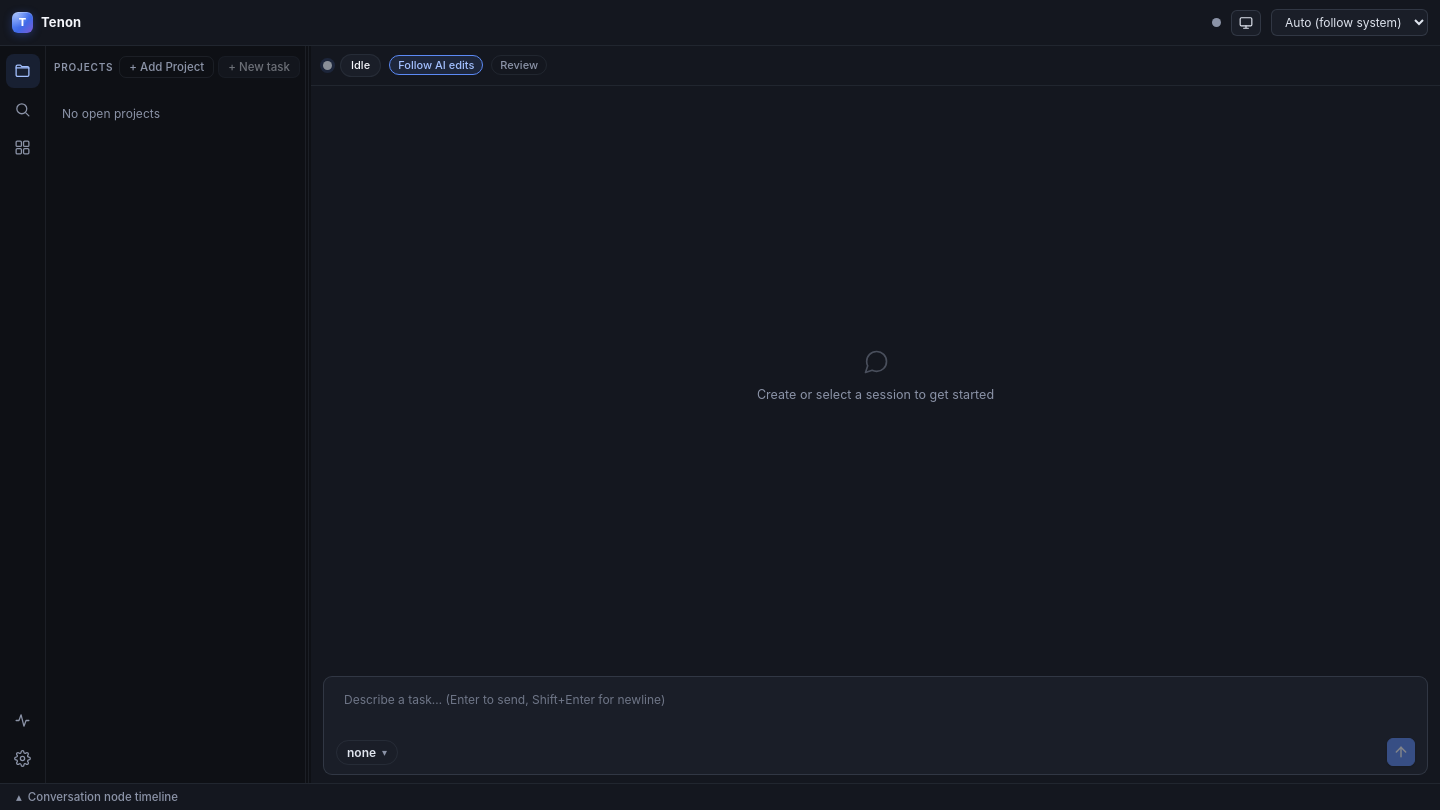
Scenario: 全局活动 App 接线（v2.12） › 命令面板含「全局活动」命令且可执行打开
Expected: the button with test id "rail-activity" is shown, [6, 703, 40, 737]
Press p
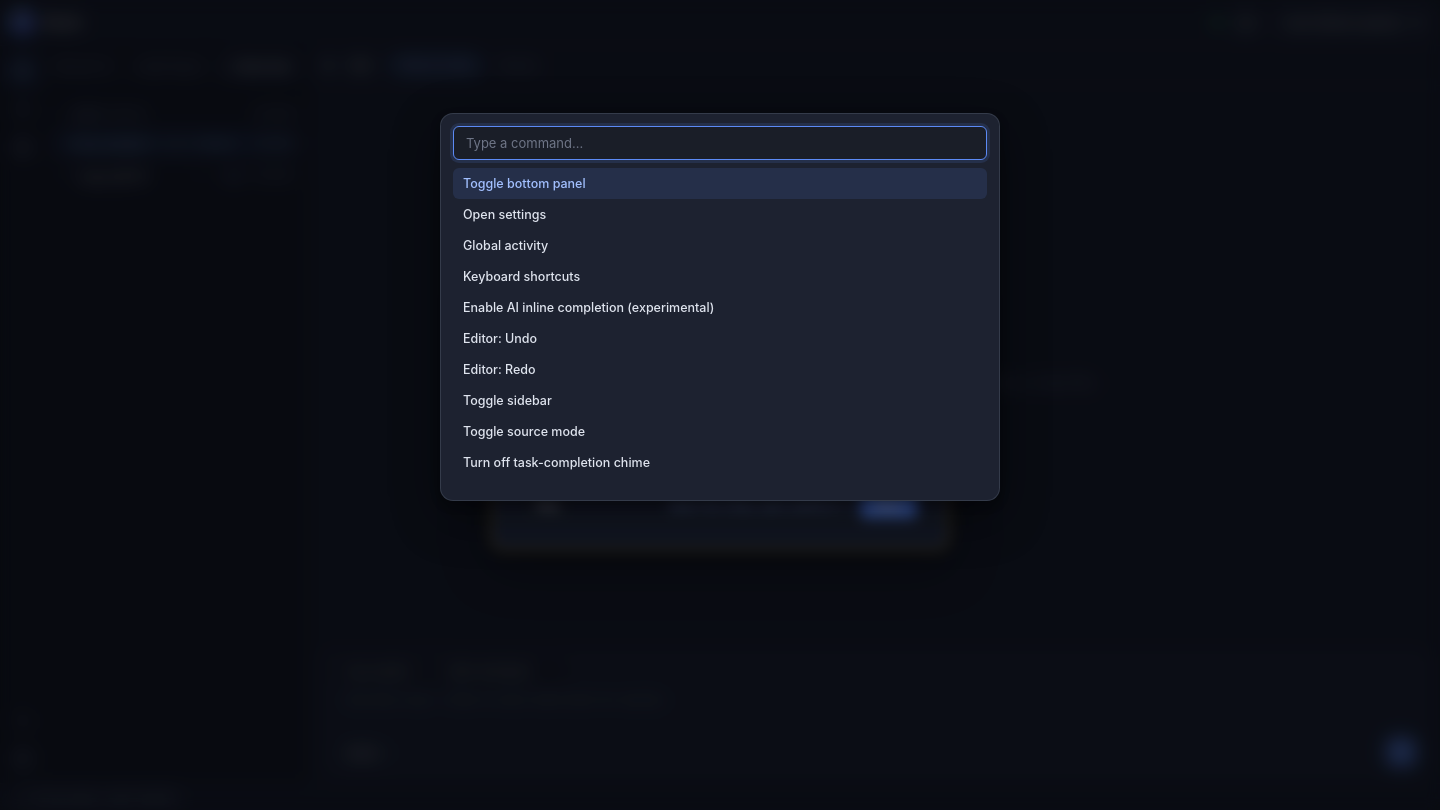
Result: the element with test id "command-palette" is shown
Type "Global activity" into the field with placeholder "Type a command…" at (720, 143), box [453, 126, 987, 160]
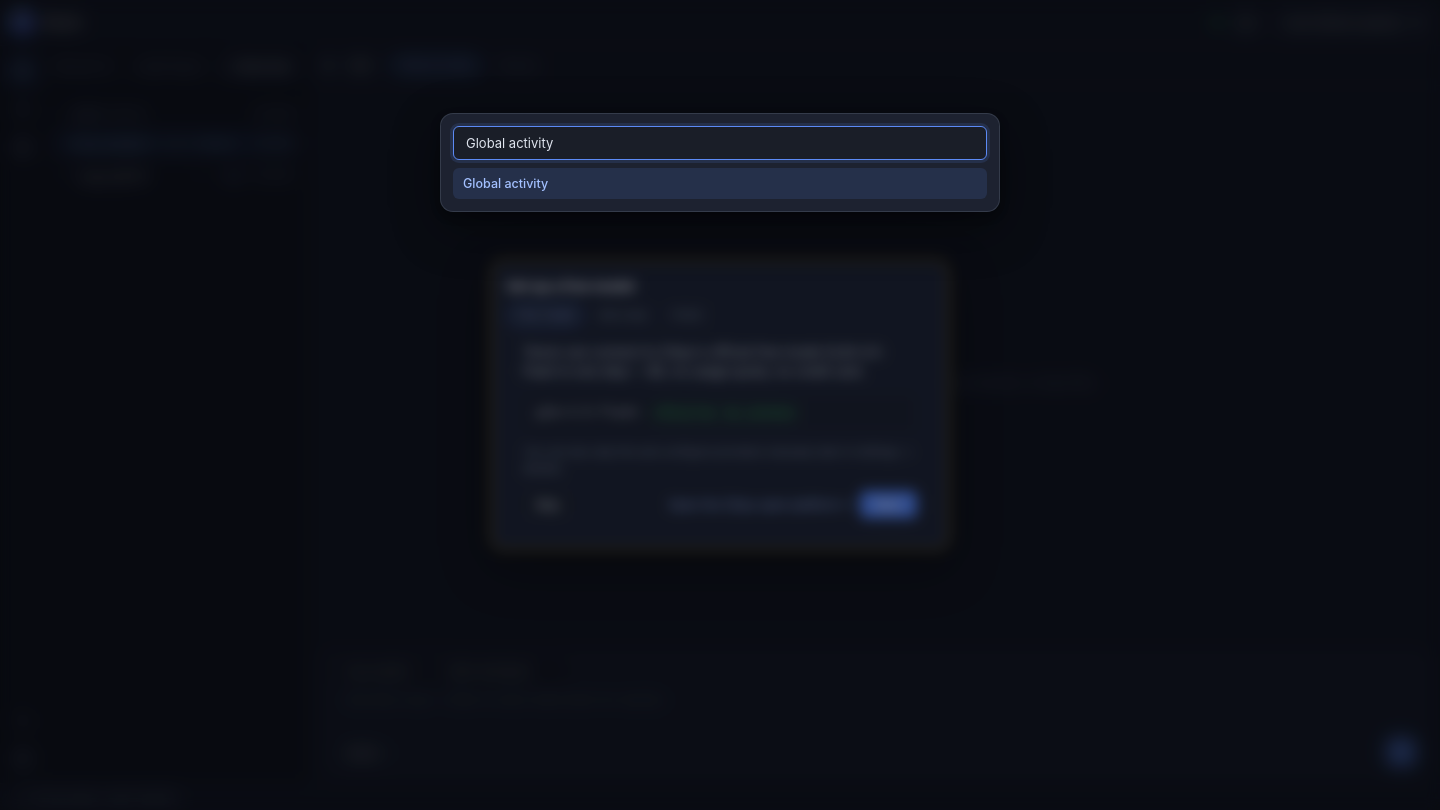
Press Enter in the field, box [453, 126, 987, 160]
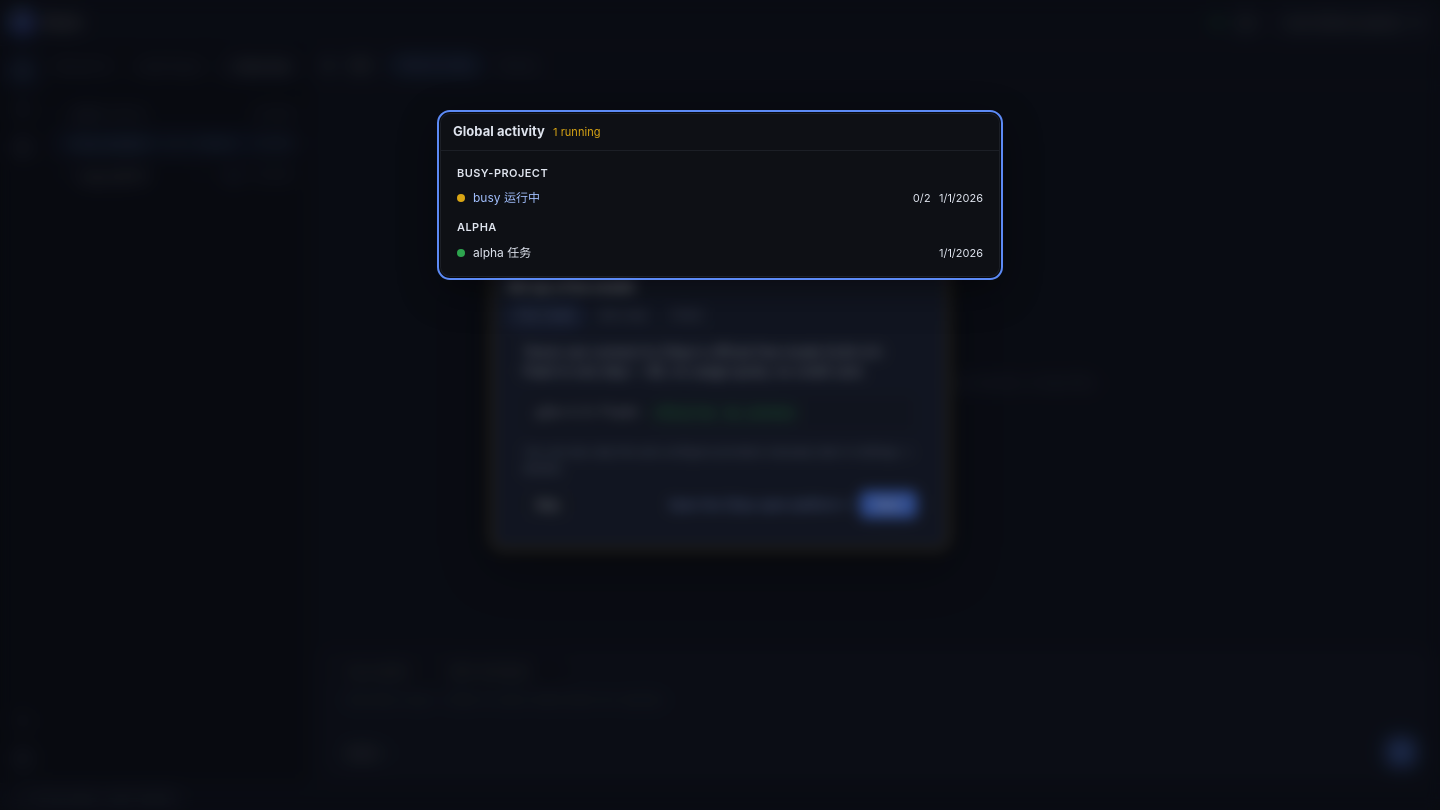
Result: the element with test id "global-activity" is shown
